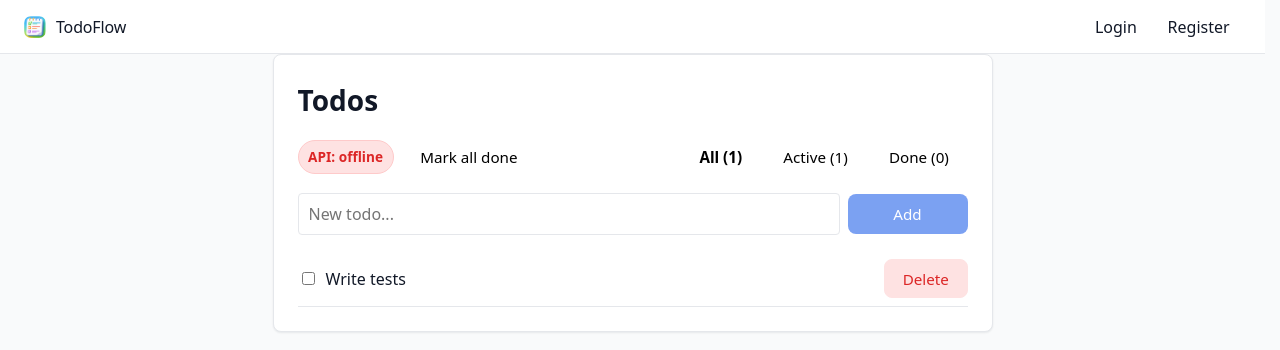
Test: loads todos and supports toggle/delete
The width and height of the screenshot is (1280, 350).
expect the text "Write tests" is shown: met, box [326,268,406,290]
Click the checkbox: (308, 279) [302,272,314,285]
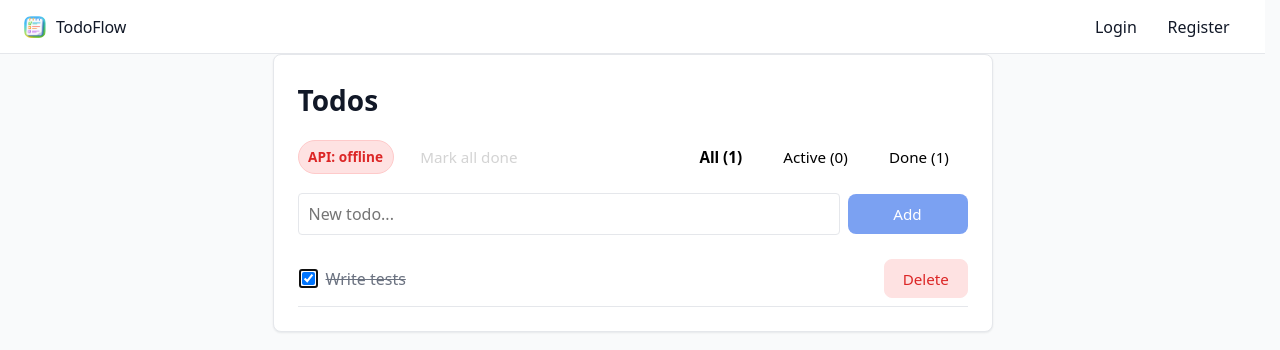
expect the checkbox is checked: met, box [302,272,314,285]
Click the button "Delete": (926, 279) [884,259,968,298]
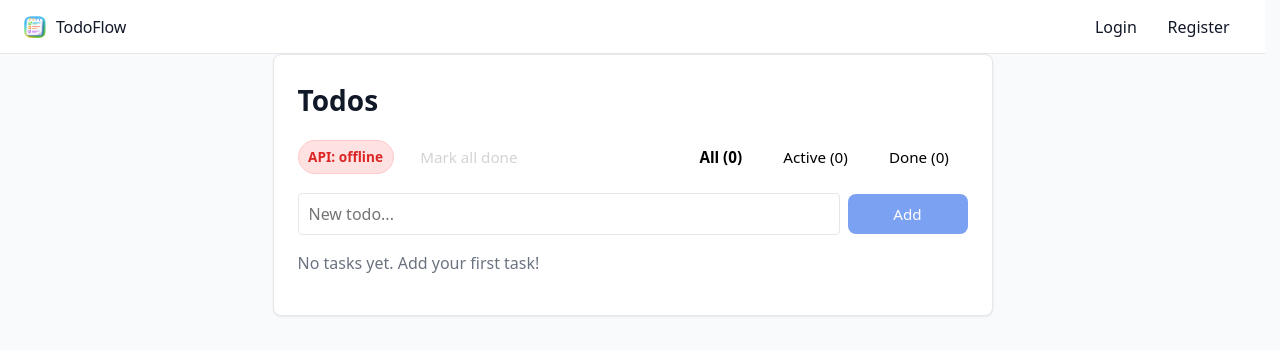
expect the text "Write tests" is gone: met
expect the text "No tasks yet. Add your first task!" is shown: met, box [298,252,539,274]
